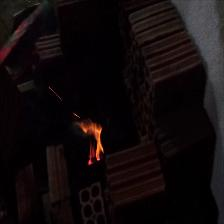fire: (77, 120, 104, 165)
